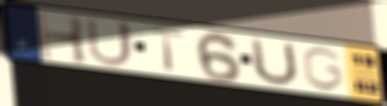6: (192, 30, 244, 83)
G: (299, 46, 346, 93)
H: (34, 9, 92, 66)
T: (146, 26, 188, 73)
U: (84, 17, 136, 68), (250, 36, 301, 87)
